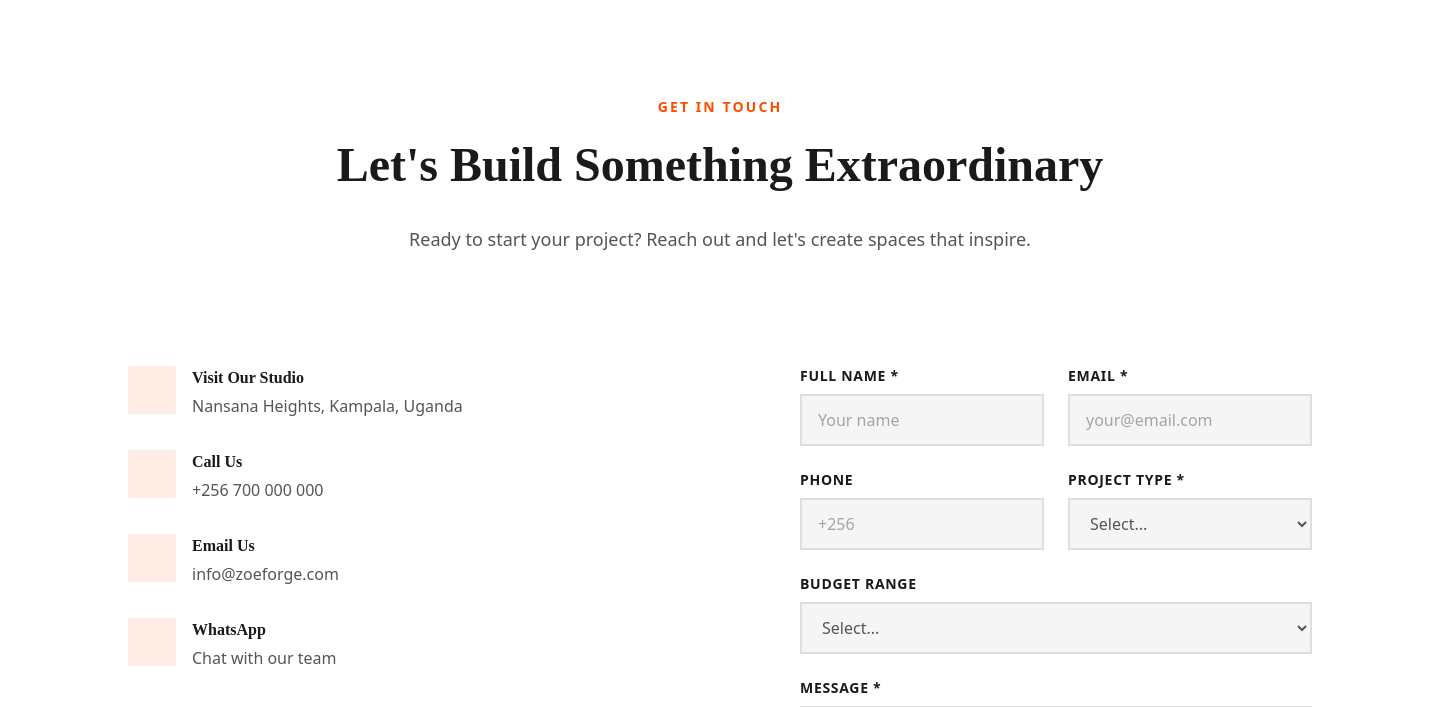
Test: Contact › shows thank you message after form submission
This screenshot has width=1440, height=707.
Type "Test User" into the field with placeholder "Your name" at {"x": 922, "y": 420}, box [800, 394, 1044, 446]
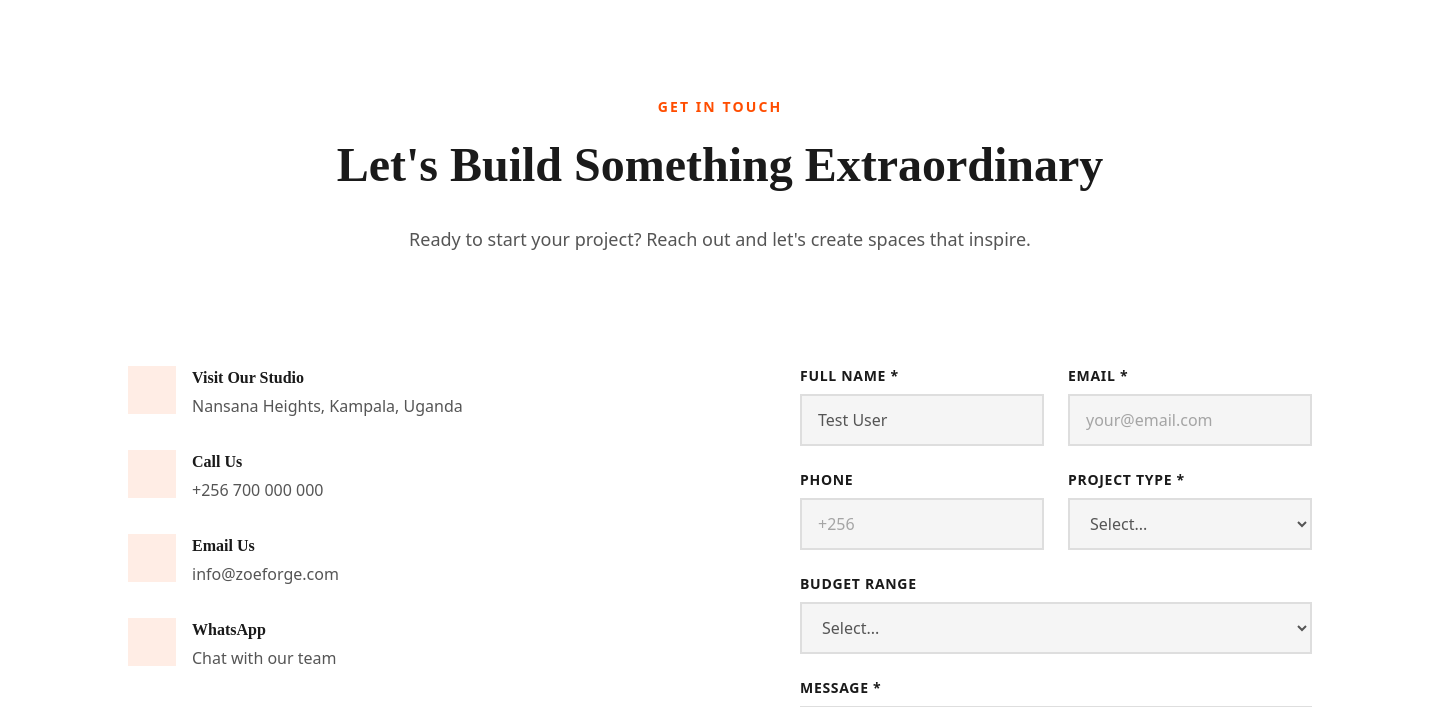
Type "test@example.com" into the field with placeholder "your@email.com" at {"x": 1190, "y": 420}, box [1068, 394, 1312, 446]
(page scrolled)
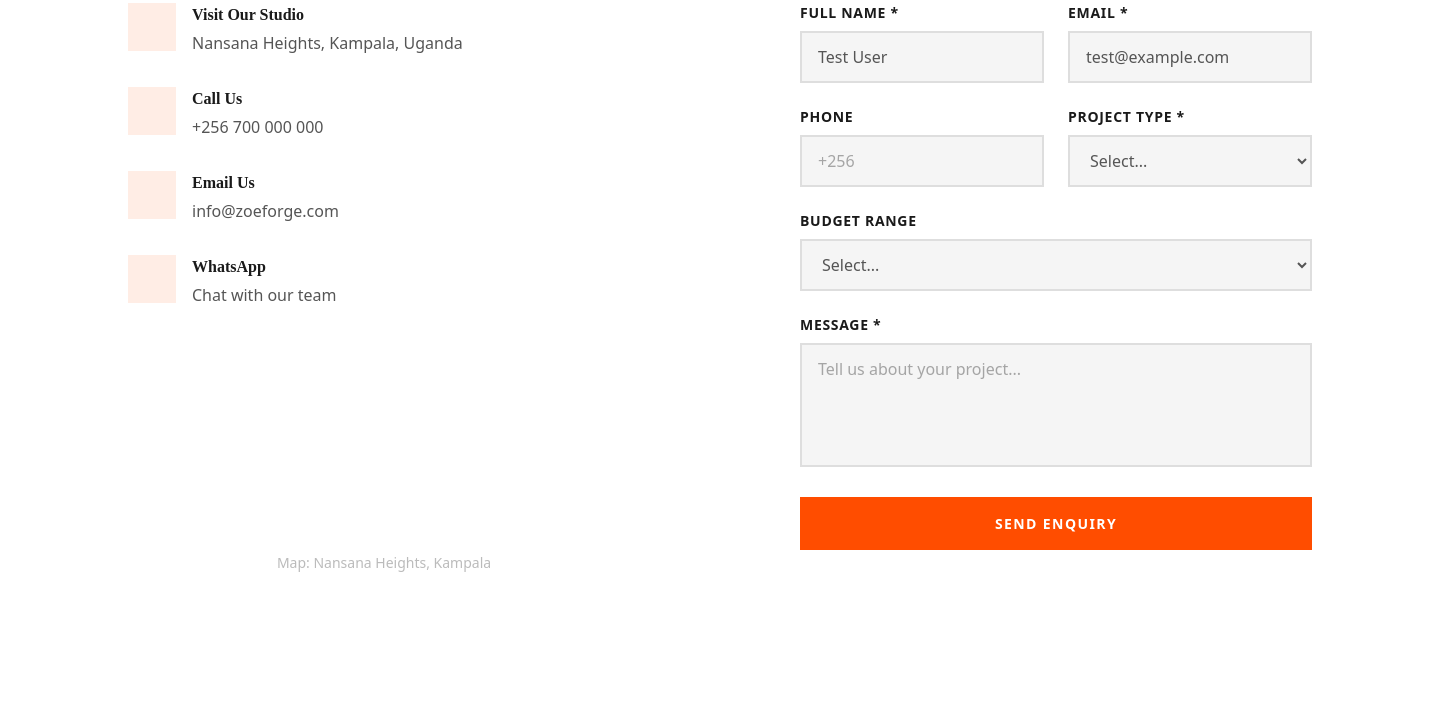
Type "Test message" into the text box with placeholder "Tell us about your project..." at {"x": 1056, "y": 405}, box [800, 343, 1312, 467]
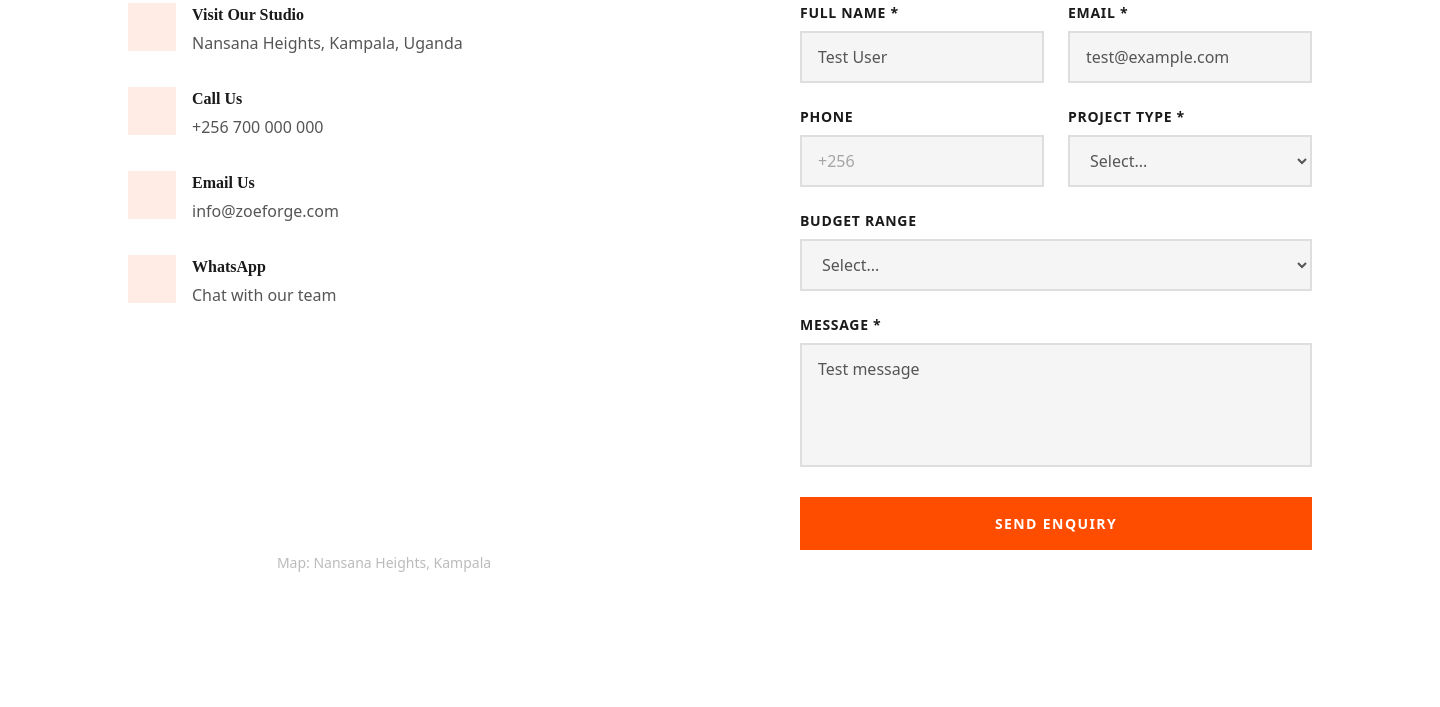
// Select a project type
Select "Residential" in the dropdown below "Project Type *" at {"x": 1190, "y": 161}, box [1068, 135, 1312, 187]
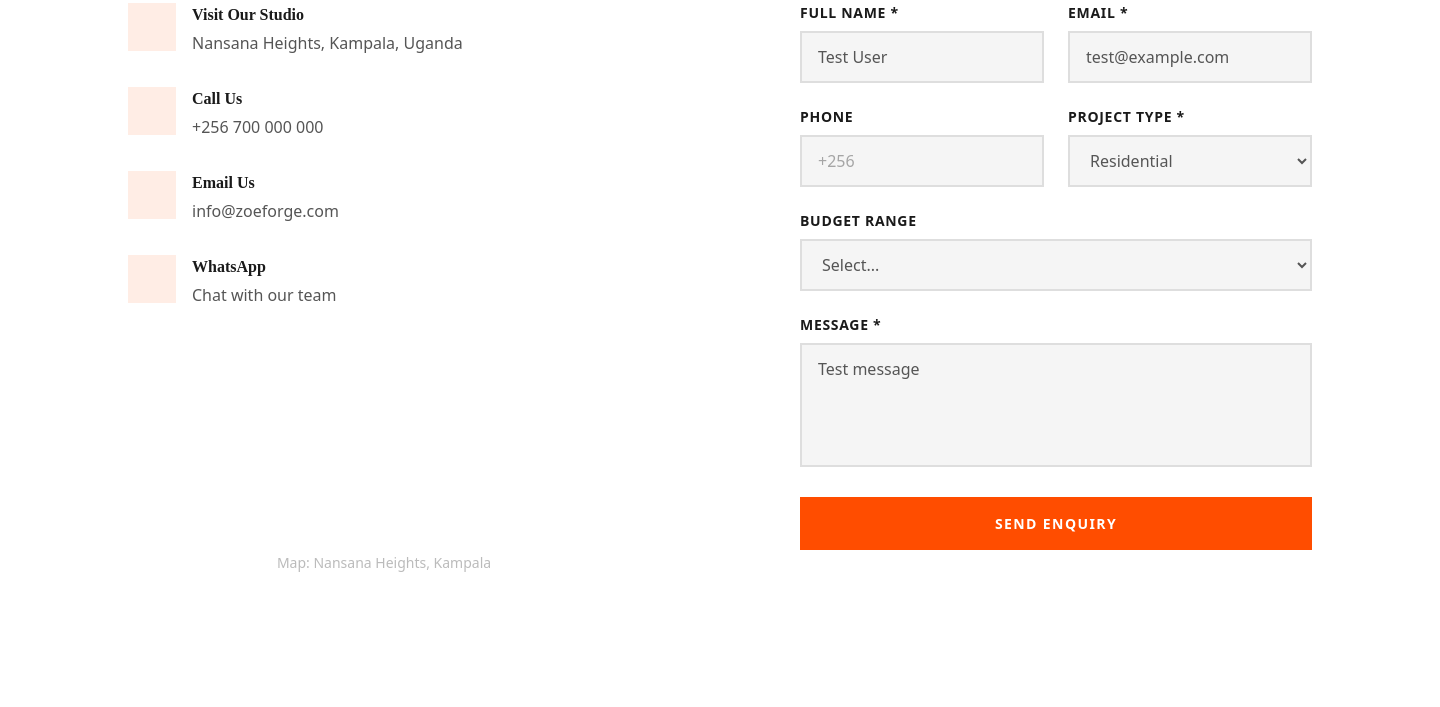
Click the button "Send Enquiry" at {"x": 1056, "y": 524}, box [800, 497, 1312, 550]
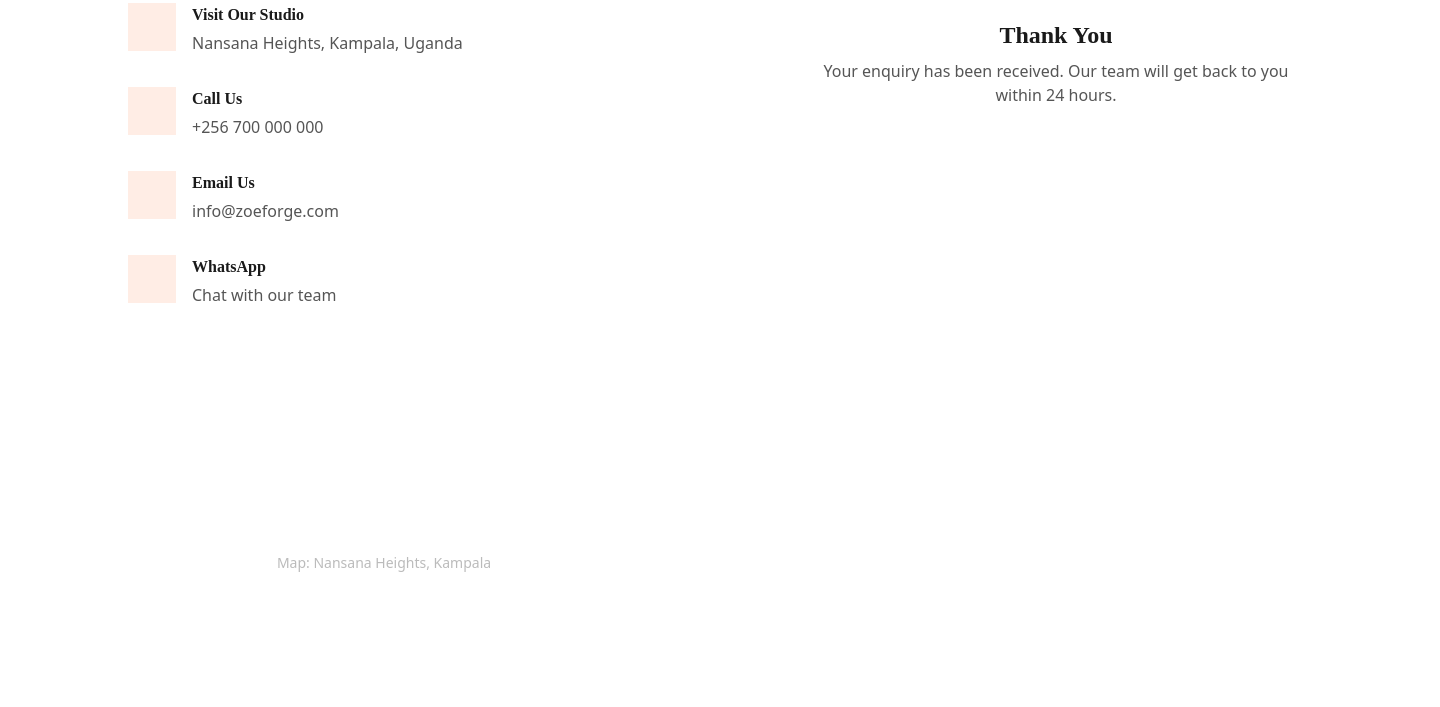
Expected: the heading "Thank You" is shown, [999, 22, 1113, 48]
Expected: the text "Your enquiry has been received" is shown, [824, 60, 1288, 106]
